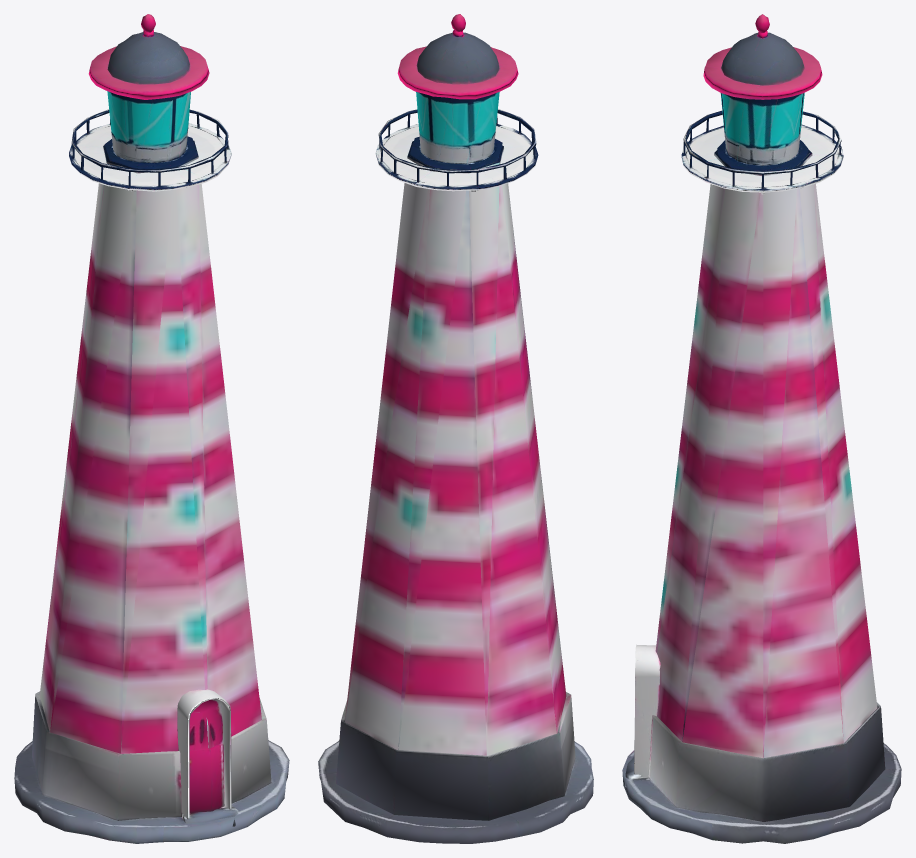
File: lighthouse.glb
3 renders of one model, left to right at view 1: azimuth 30°, elevation 25°; view 2: azimuth 150°, elevation 25°; view 3: azimuth 270°, elevation 25°, orthographic.
Size of the model in its own units: 0.3233 by 0.9971 by 0.3277.
Materials: 1 (1 with a texture image).
